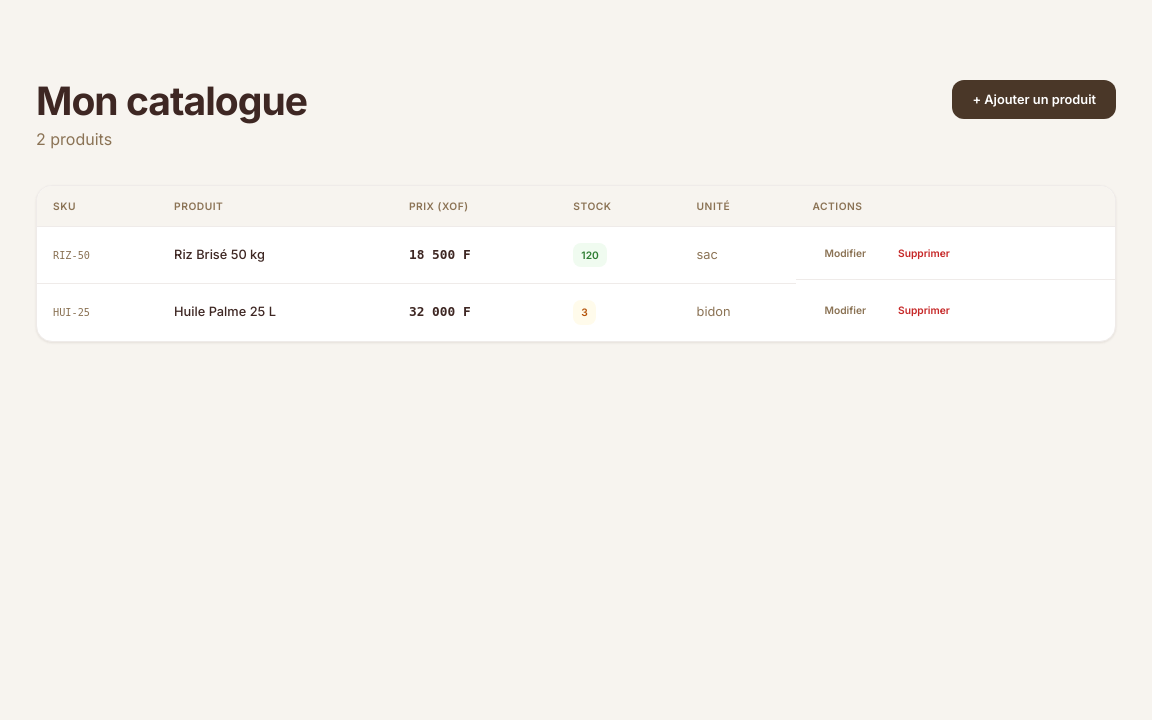
Test: ProductManager — UC-01, UC-02 › opens create modal on add button click
This screenshot has width=1152, height=720.
Click the button with test id "pm-add-btn": (1034, 100) [952,80,1116,119]
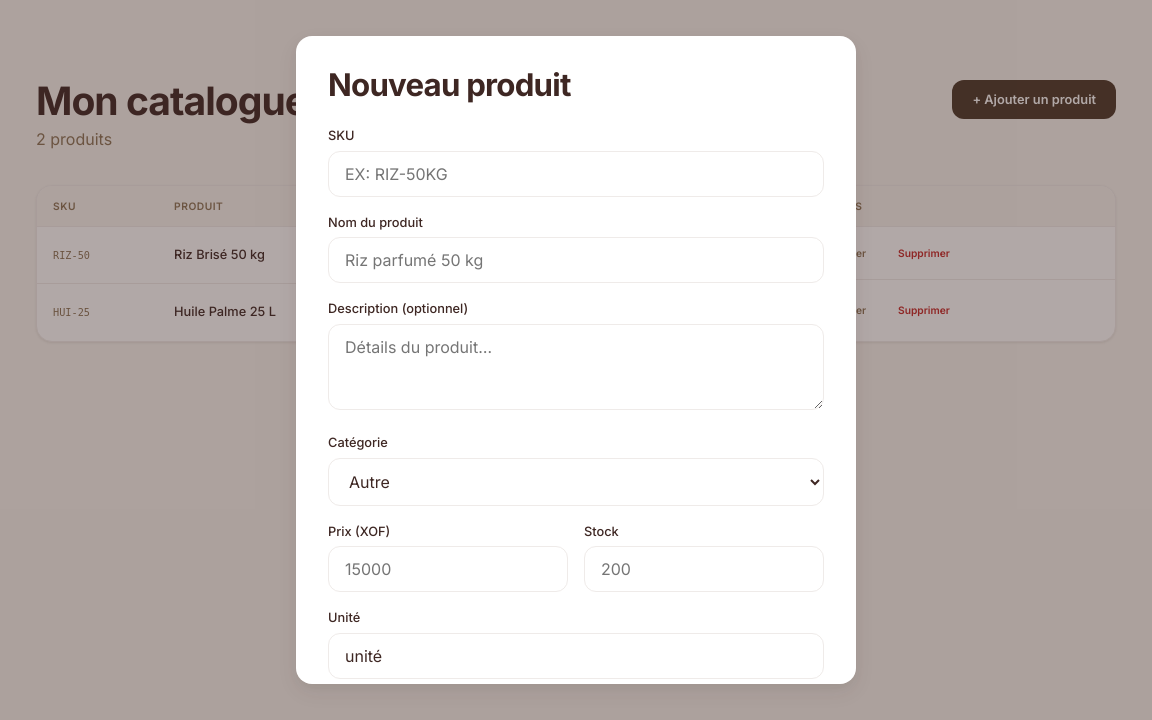
Check: the element with test id "pm-modal" is shown
Check: the heading with test id "pm-modal-title" reads "Nouveau produit", box [328,66,571,104]
